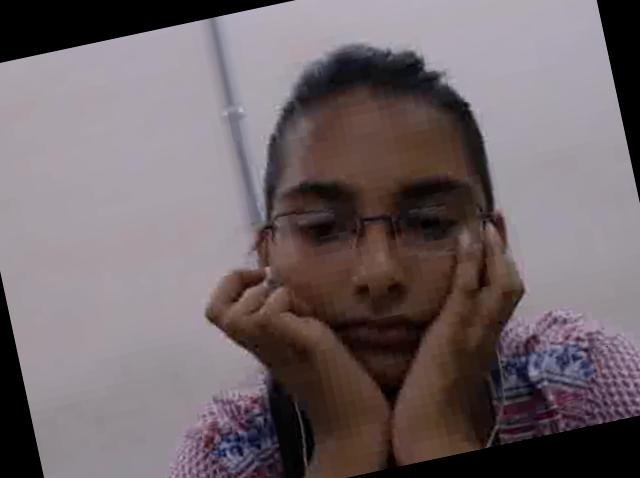bingung: (252, 94, 520, 404)
